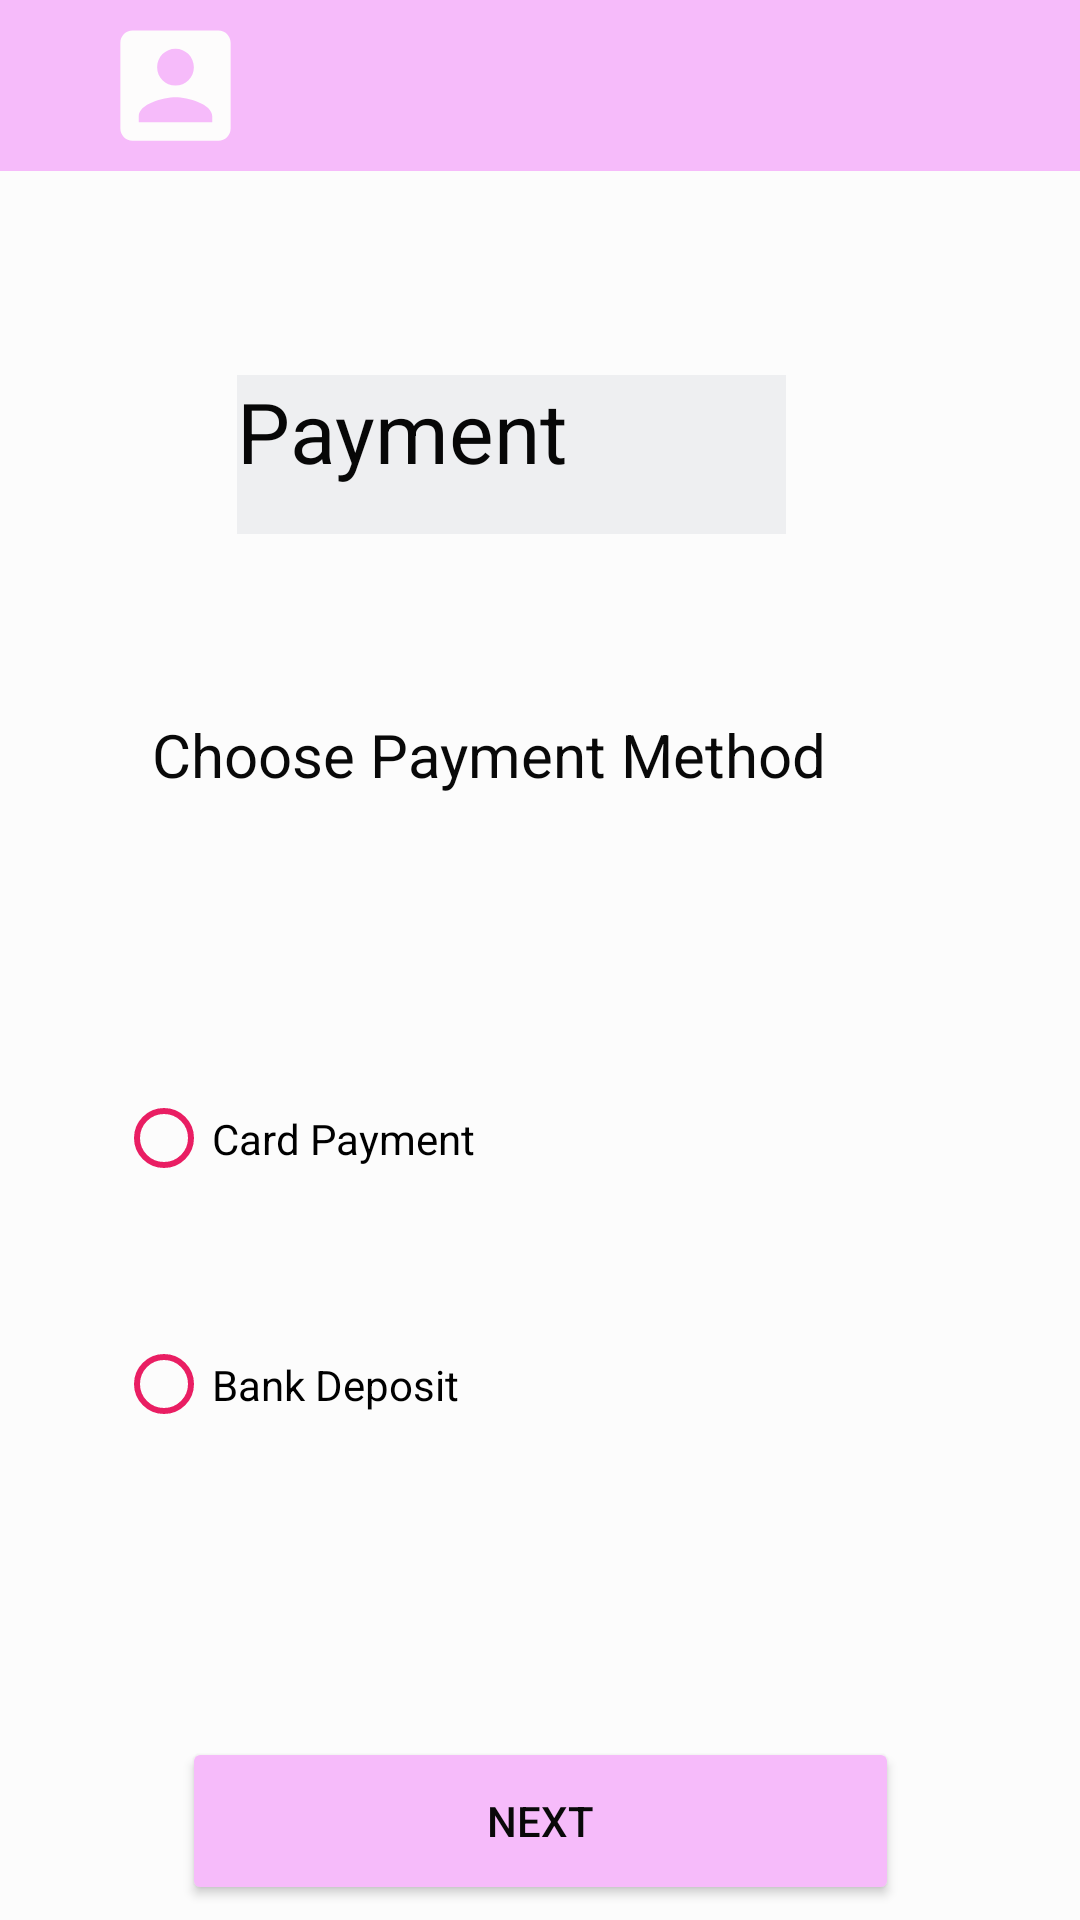

Locate icon controls on the screen. Image size 1080px x 1920px, boxes as (x1, y1, x2, y2).
account box: (120, 30, 231, 141)
